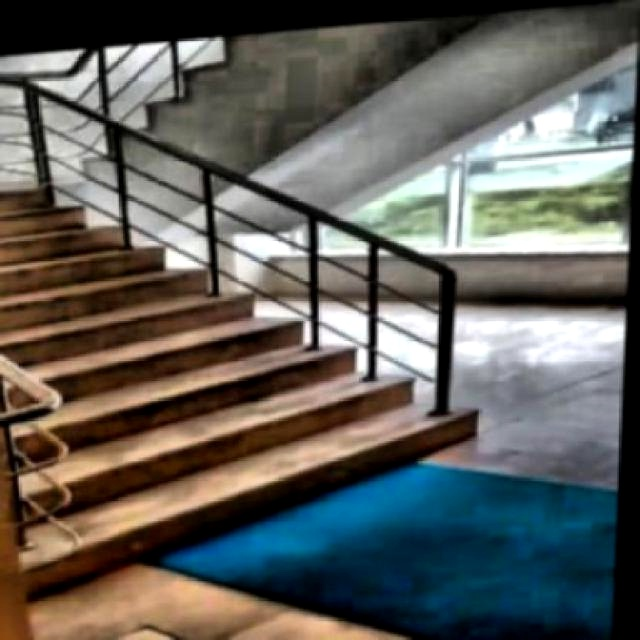stair: (2, 111, 532, 603)
